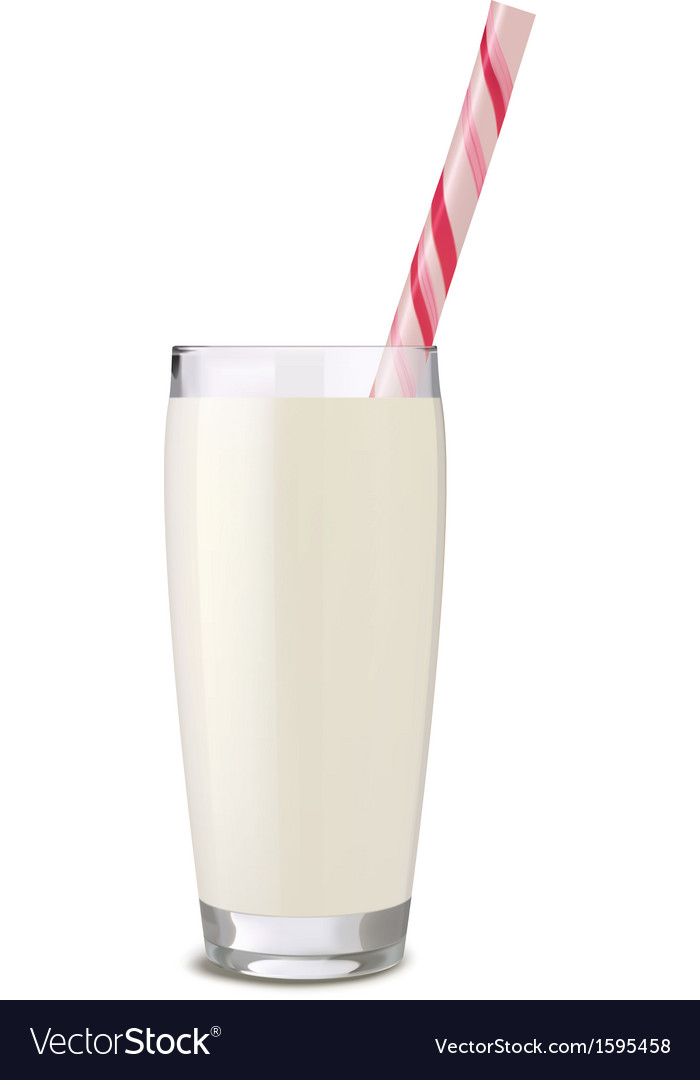glass of milk: (176, 345, 423, 959)
